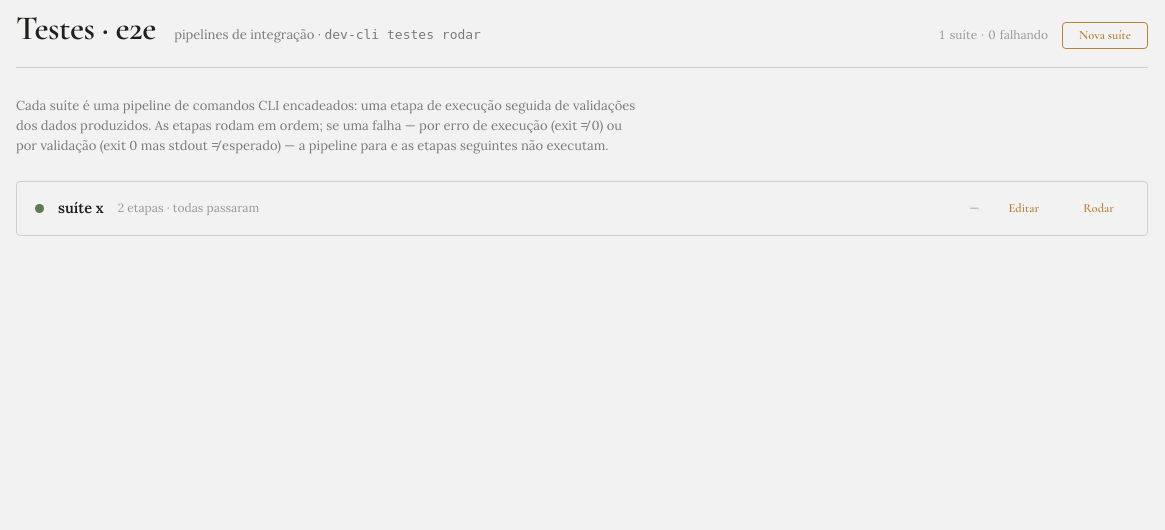
Test: Testes › clicar no cabeçalho expande os detalhes da suíte
Check: the text "cli 1" is not shown
Click the text "suíte x" at (81, 208), box [58,197,104,219]
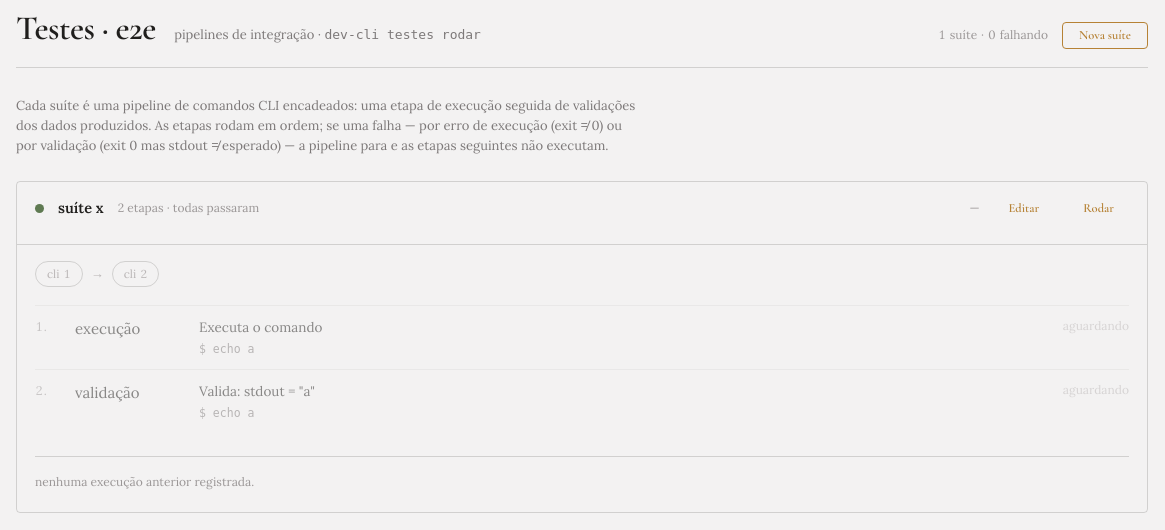
Check: the text "cli 1" is shown, box [35,261,83,287]
Check: the text "cli 2" is shown, box [112,261,159,287]
